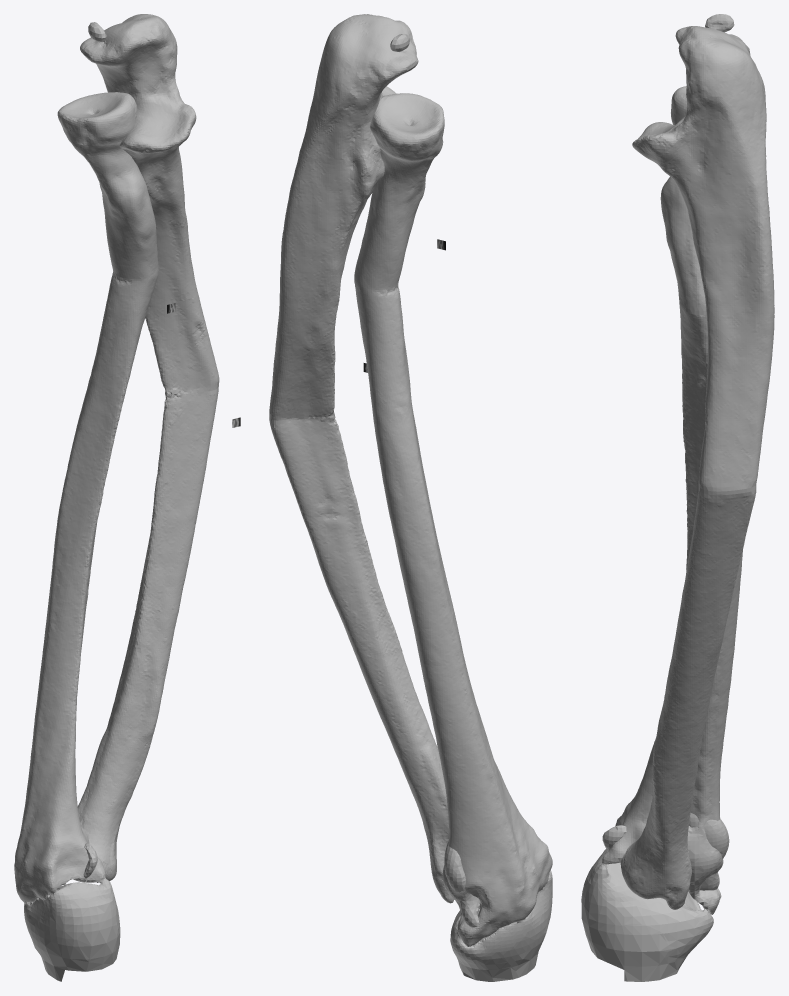
File: fractured_4be116a4-54b4-4eaa-a8e9-301a0a8c3ea4.glb
The picture shows the model from 3 angles, left to right: view 1: azimuth 30°, elevation 25°; view 2: azimuth 150°, elevation 25°; view 3: azimuth 270°, elevation 25°; orthographic projection. The views are drawn at different scales.
Visible parts, largest first — view 1: world; view 2: world; view 3: world.
Part boxes in pixels (x1=…): world: x1=14, y1=14, x2=240, y2=981; world: x1=269, y1=14, x2=552, y2=981; world: x1=581, y1=14, x2=774, y2=981.
Bounding box in the file's own units: 0.2642 × 1.03 × 0.1841.
2 materials, 2 textured.
